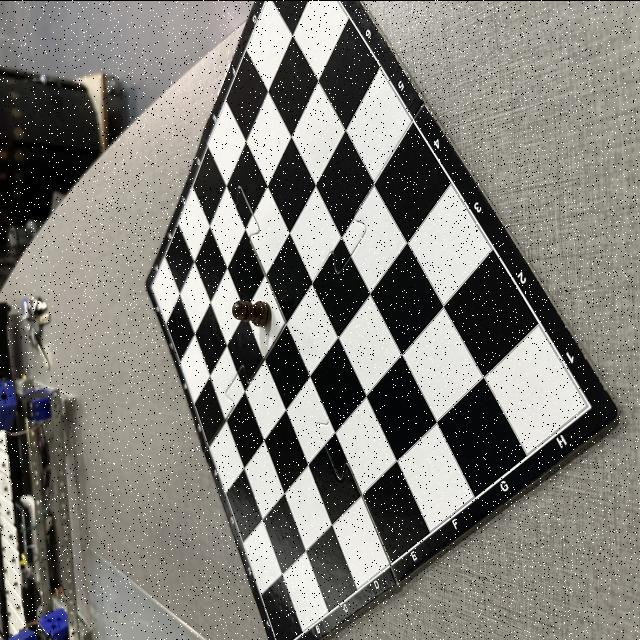Black-Pawn: (232, 300, 272, 326)
